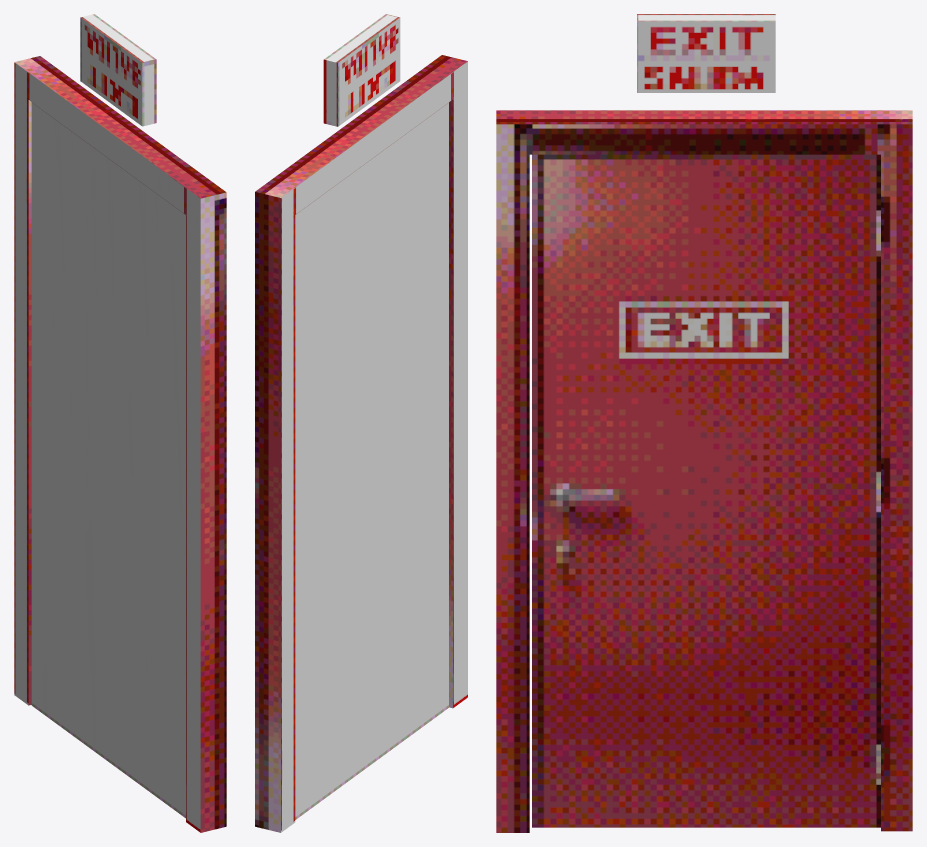
The model's file is Puerta_Salida.fbx.
3 renders of one model, left to right at view 1: azimuth 30°, elevation 25°; view 2: azimuth 150°, elevation 25°; view 3: azimuth 270°, elevation 25°, orthographic. The views are drawn at different scales.
Parts seen in each view (by area): view 1: polySurface88, polySurface90, polySurface89; view 2: polySurface88, polySurface90, polySurface89; view 3: polySurface88, polySurface90, polySurface89.
Boxes of the visible parts, left/top/right/bottom form: polySurface88: left=31, top=102, right=185, bottom=818; polySurface90: left=14, top=56, right=226, bottom=832; polySurface89: left=80, top=14, right=156, bottom=126; polySurface88: left=295, top=102, right=448, bottom=819; polySurface90: left=255, top=55, right=467, bottom=832; polySurface89: left=323, top=14, right=400, bottom=126; polySurface88: left=532, top=154, right=880, bottom=827; polySurface90: left=496, top=110, right=912, bottom=832; polySurface89: left=637, top=14, right=775, bottom=92.
Size of the model in its own units: 19.21 by 514 by 240.
